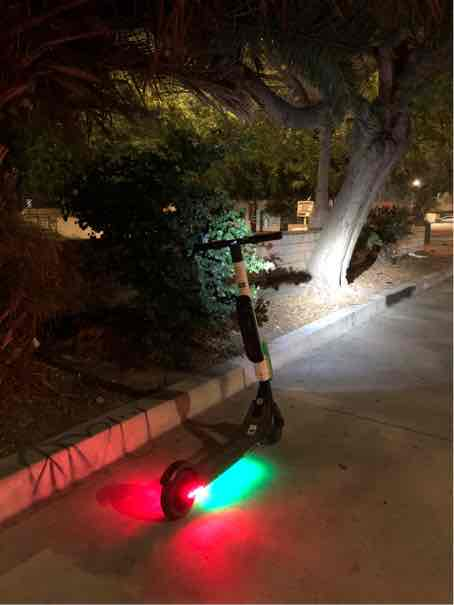scooter: (144, 231, 316, 530)
